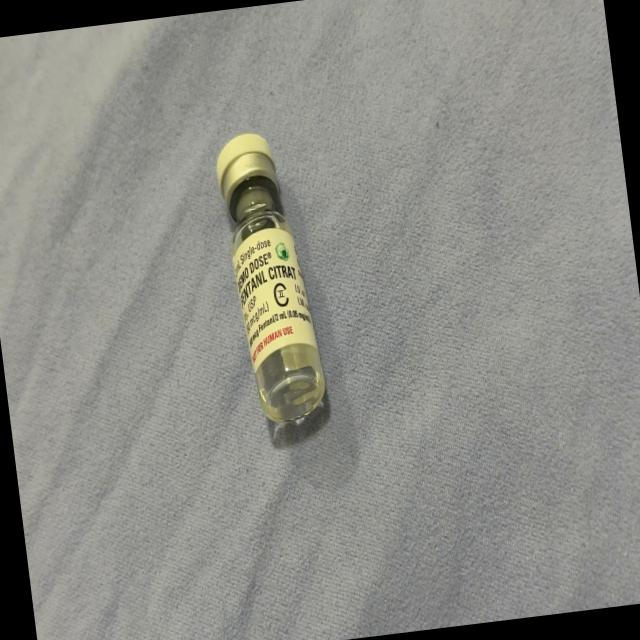fentanl_citrat: (214, 133, 328, 424)
